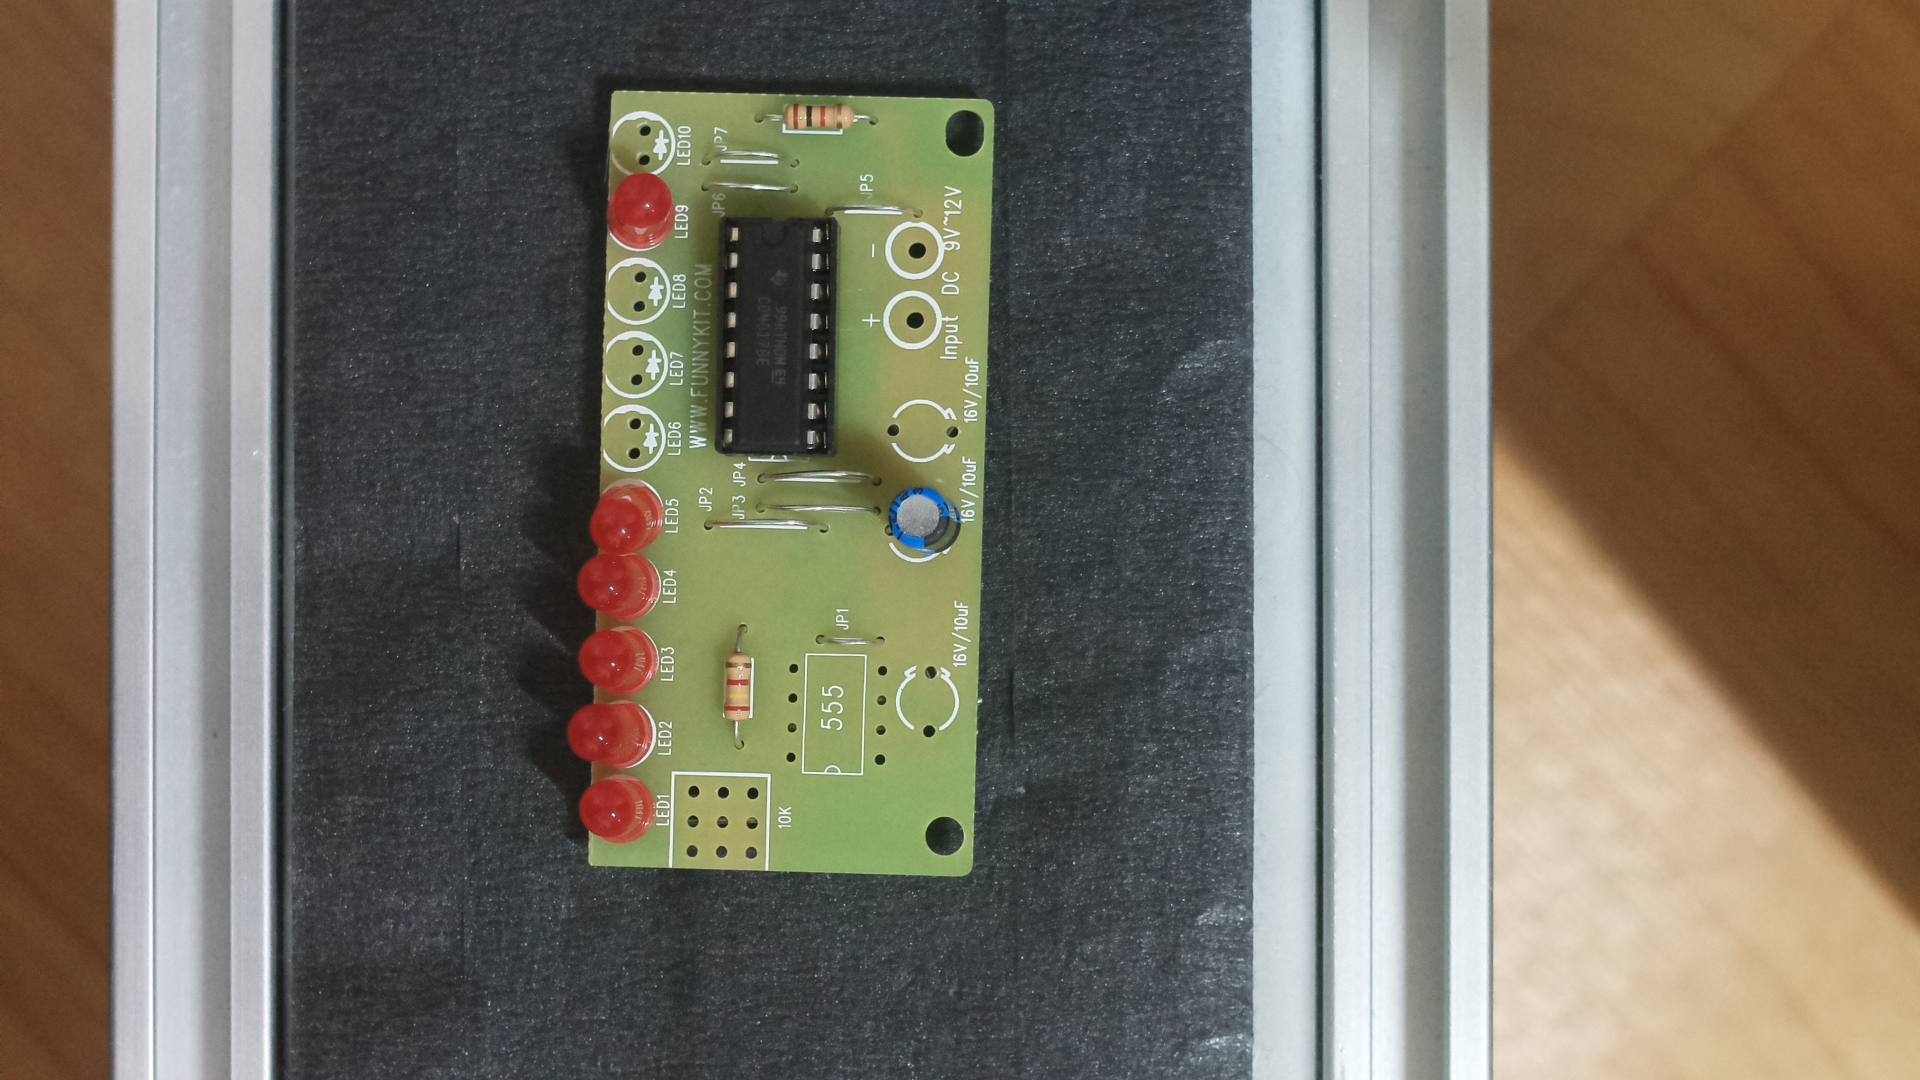B_Missing_part: (558, 50, 997, 920)
